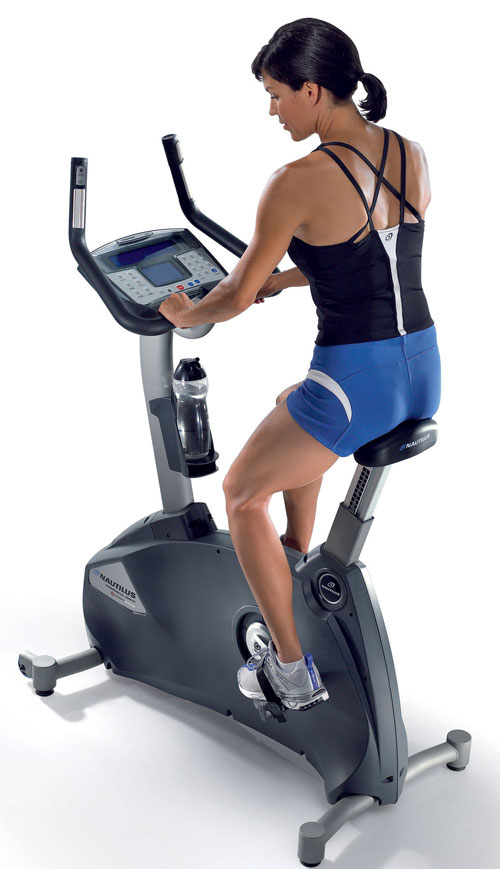gym_bike: (10, 111, 477, 869)
